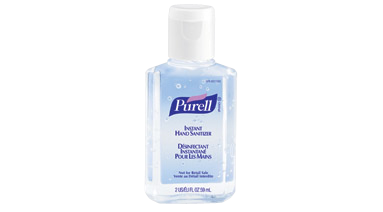Sanitizer: (141, 2, 241, 209)
